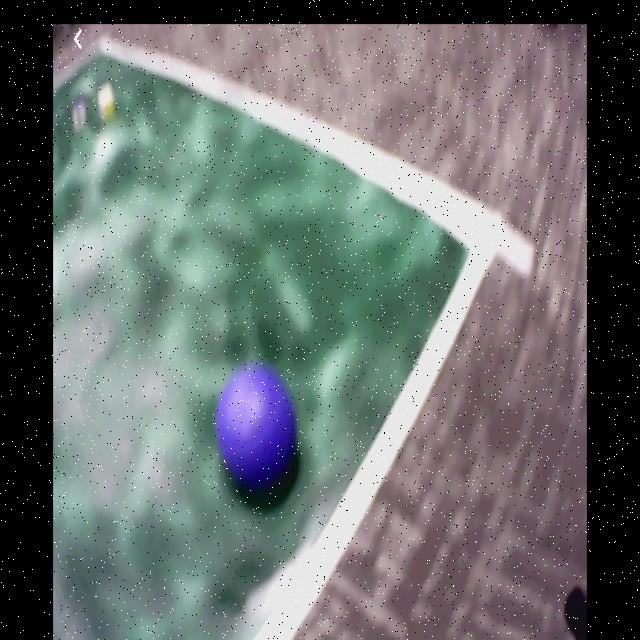ball: (218, 369, 297, 488)
